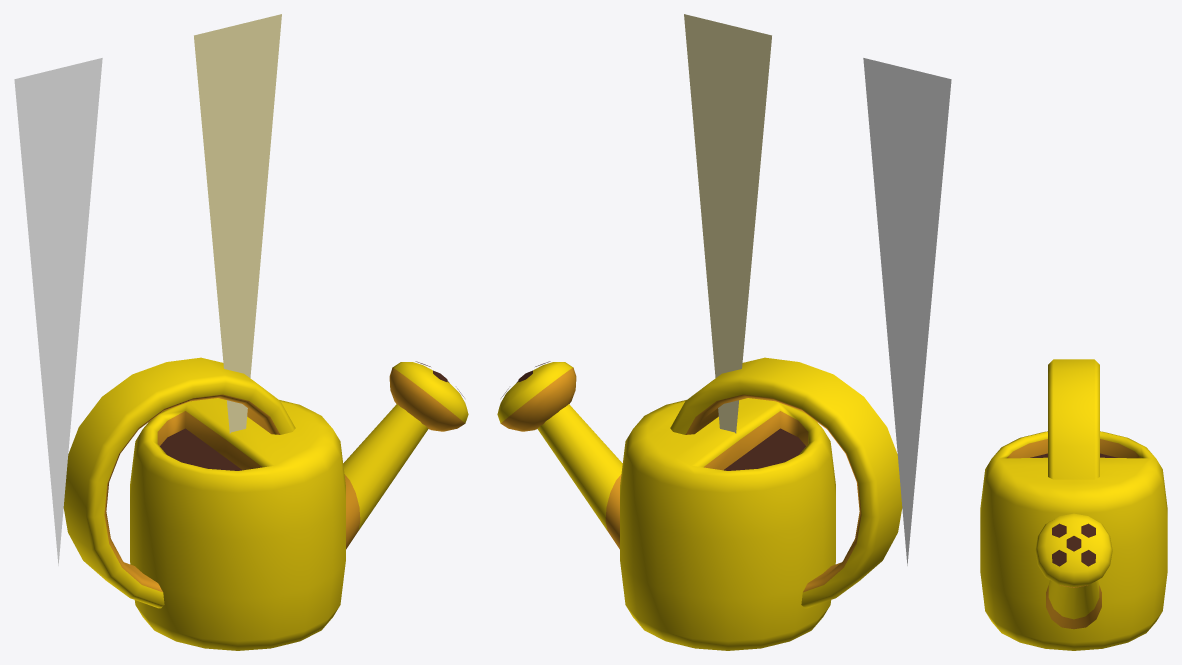
Rendered from mesh_wateringCan.fbx.
The picture shows the model from 3 angles, left to right: view 1: azimuth 30°, elevation 25°; view 2: azimuth 150°, elevation 25°; view 3: azimuth 270°, elevation 25°; orthographic projection. The views are drawn at different scales.
Parts seen in each view (by area): view 1: mesh_wateringCan, mesh_shine02, mesh_shine01; view 2: mesh_wateringCan, mesh_shine02, mesh_shine01; view 3: mesh_wateringCan.
Boxes of the visible parts, box(x1,y1,x2,y2) form: mesh_wateringCan: box(63, 357, 468, 650); mesh_shine02: box(14, 58, 102, 565); mesh_shine01: box(194, 14, 281, 433); mesh_wateringCan: box(497, 357, 902, 650); mesh_shine02: box(863, 58, 951, 565); mesh_shine01: box(684, 14, 771, 433); mesh_wateringCan: box(980, 359, 1167, 650).
Size of the model in its own units: 5.06 by 6.4 by 2.12.
1 material, 1 textured.
